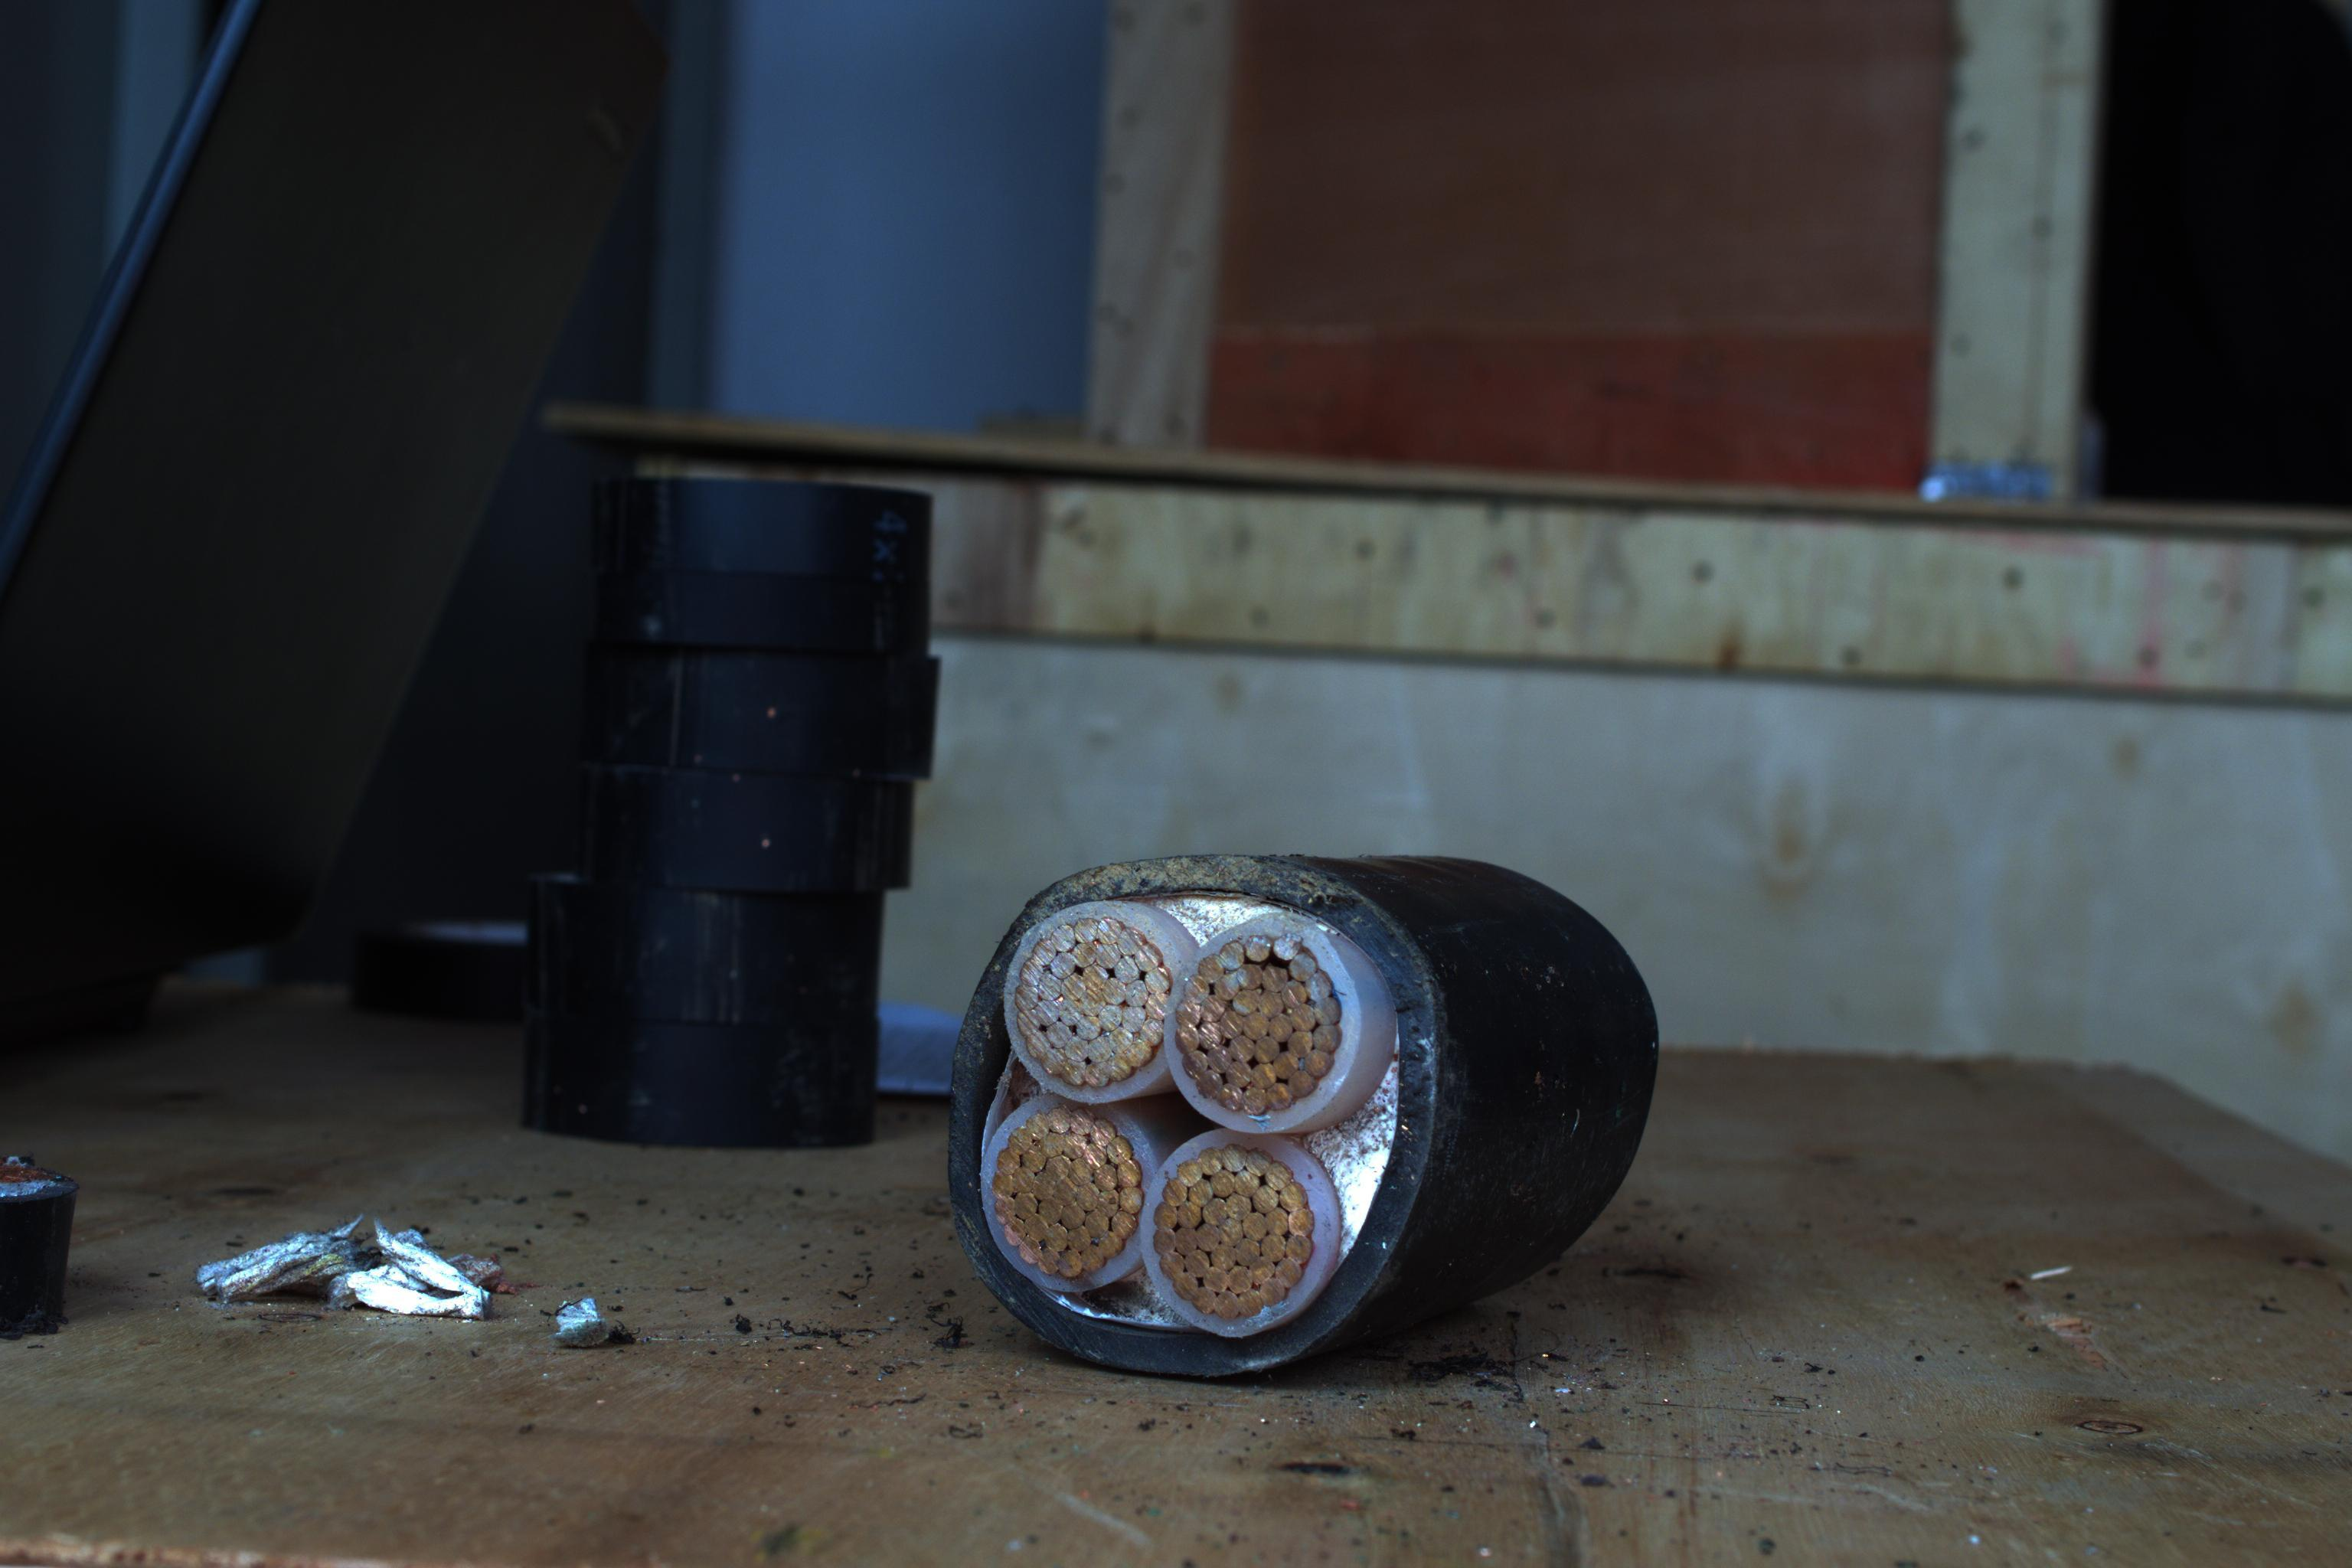YJV_0.6_1kV_4x240: (948, 854, 1437, 1360)
